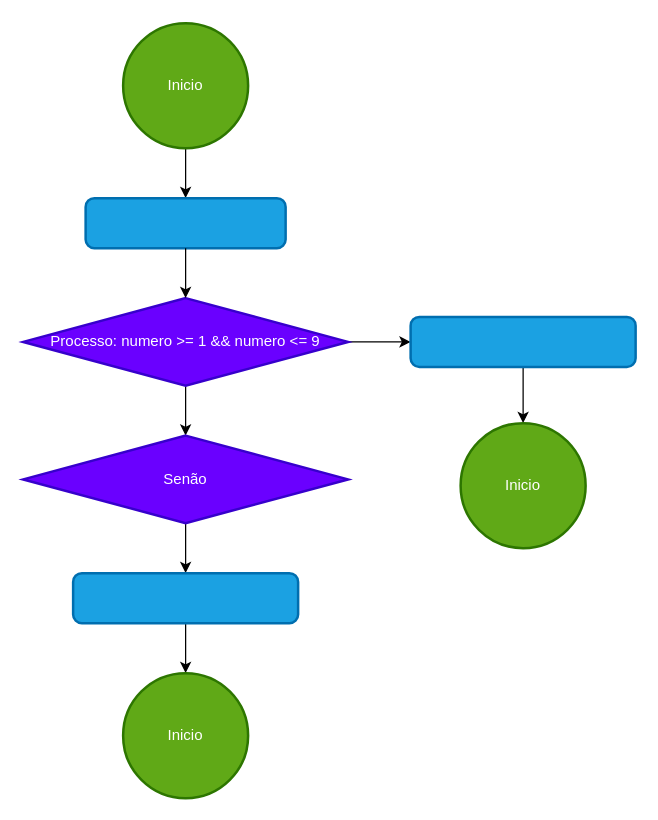
Image size: 658x820. Some labels were removed from this diagram. The shapes that lost their labels are listed below. From the top down, each one's centre as x and y in pixels, then its label:
At point (185, 222): "Escreva um valor númerico inteiro:".
At point (522, 341): "O valor está dentro da faixa permitida".
At point (185, 597): "O valor está fora da faixa permitida".
